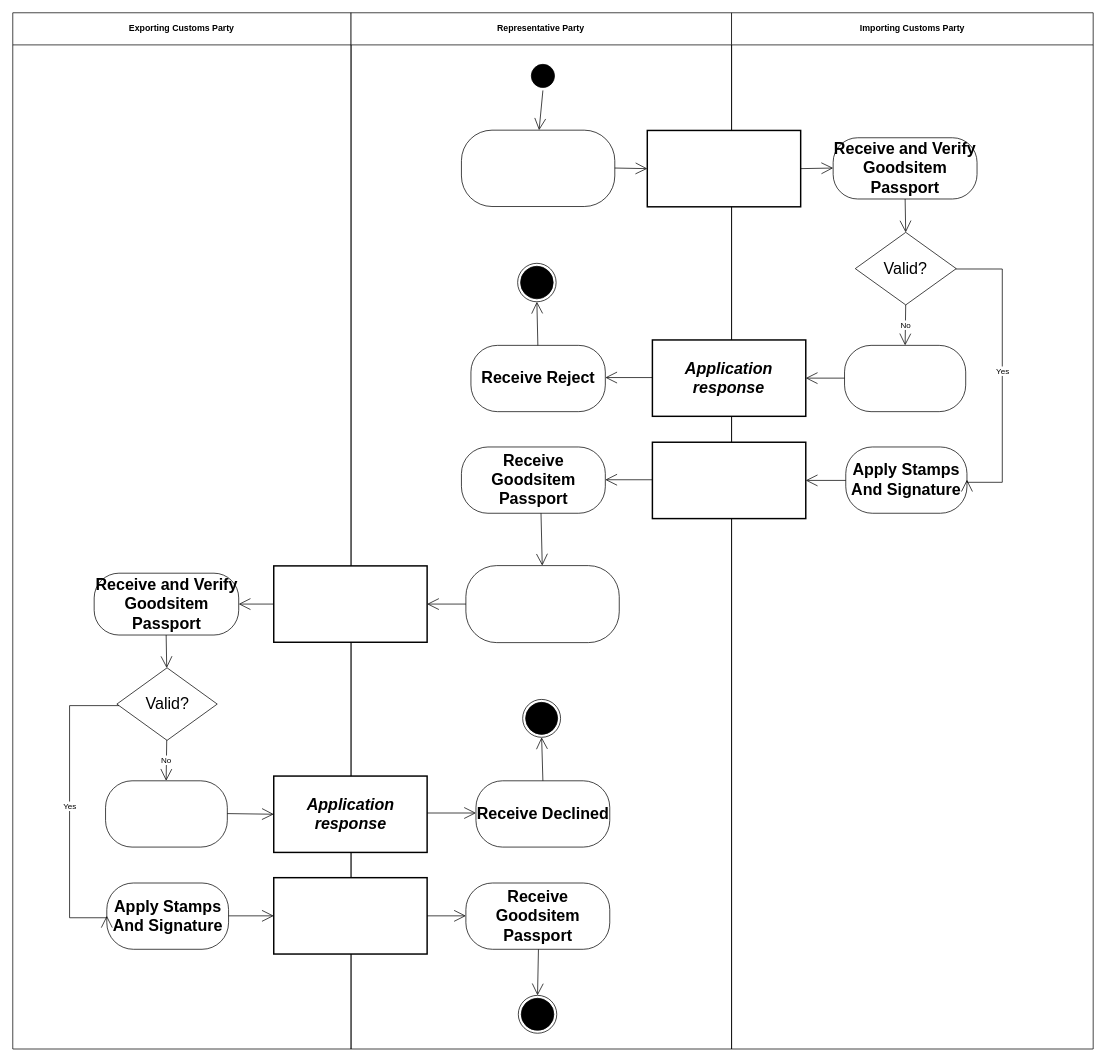
Some shapes in this 1106 by 1062 pixel diagram are drawn without their labels. The shapes that lost their labels are listed below. From the top down, each one's centre as x and y in pixels, then its label:
pixel 538 168: Present Goods To Leave Country
pixel 723 168: Goodsitem Passport (Imported)
pixel 905 378: Send Reject
pixel 728 480: Goodslitem Passport (Reexported)
pixel 350 604: Goodsitem Passport (Reexported)
pixel 542 604: Present Goods To Re-enter Country
pixel 166 813: Send Declined
pixel 350 915: Goodsltem Passport (Reimported)
